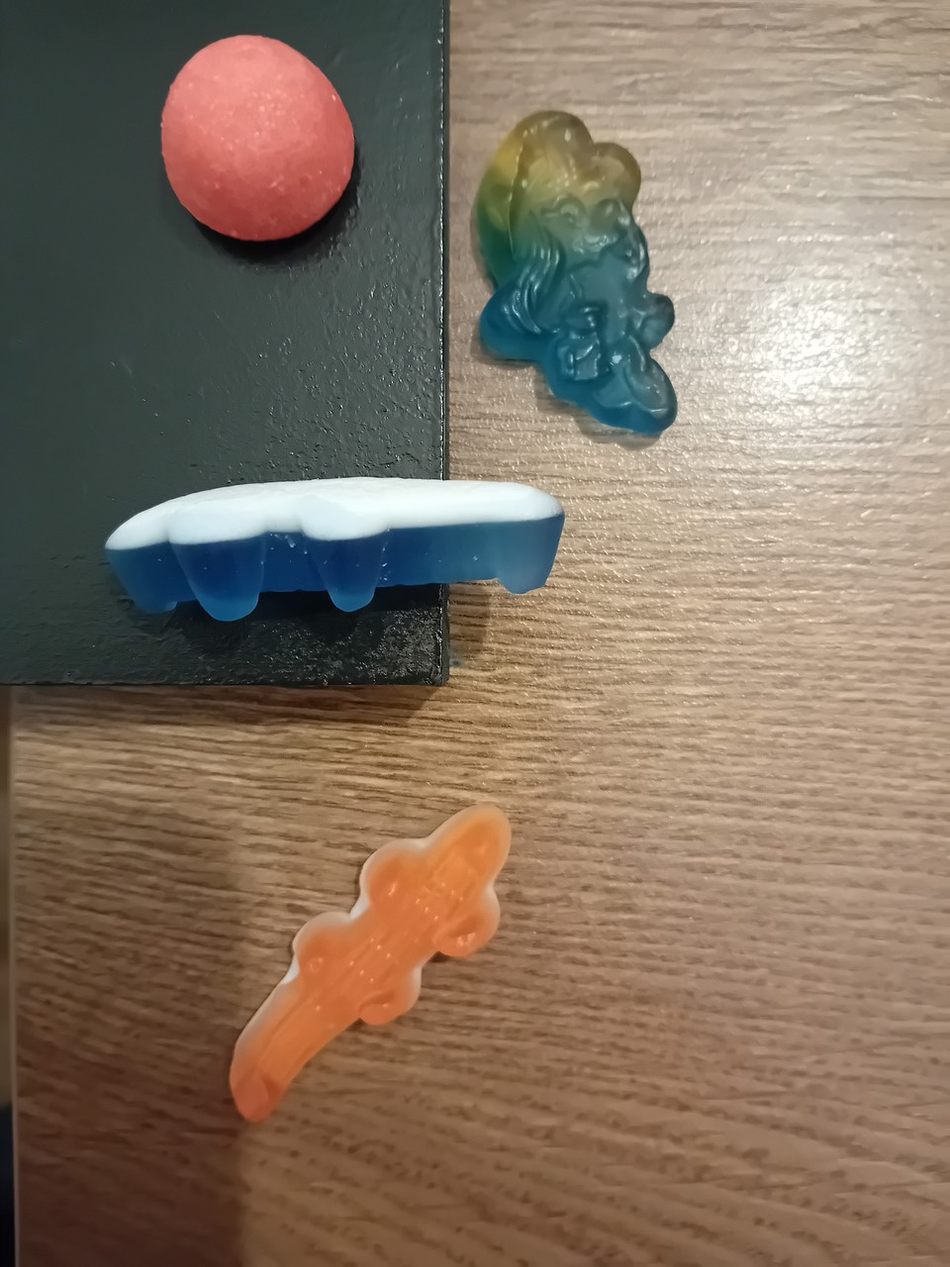crocodile_bleu: (90, 472, 570, 628)
crocodile_orange: (223, 794, 525, 1125)
schtroumpf_bleu-jaune: (461, 104, 687, 448)
tagada_fraise: (153, 29, 360, 247)
